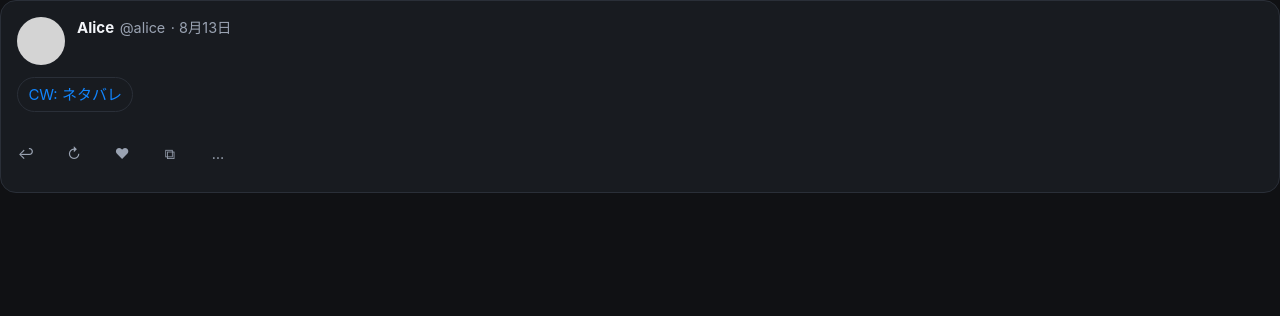
it: StatusCard › keeps sensitive media hidden after expanding a CW
Expected: the text "本文です" is not shown
Click the button "CW: ネタバレ". click: click(75, 94)
box: [17, 77, 133, 112]
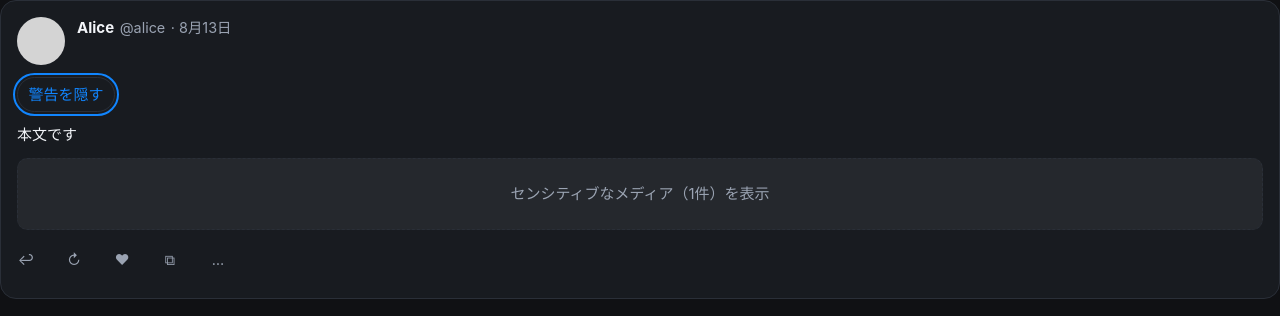
Expected: the text "本文です" is shown, [17, 125, 77, 144]
Expected: the button "センシティブなメディア（1件）を表示" is shown, [17, 158, 1263, 230]
